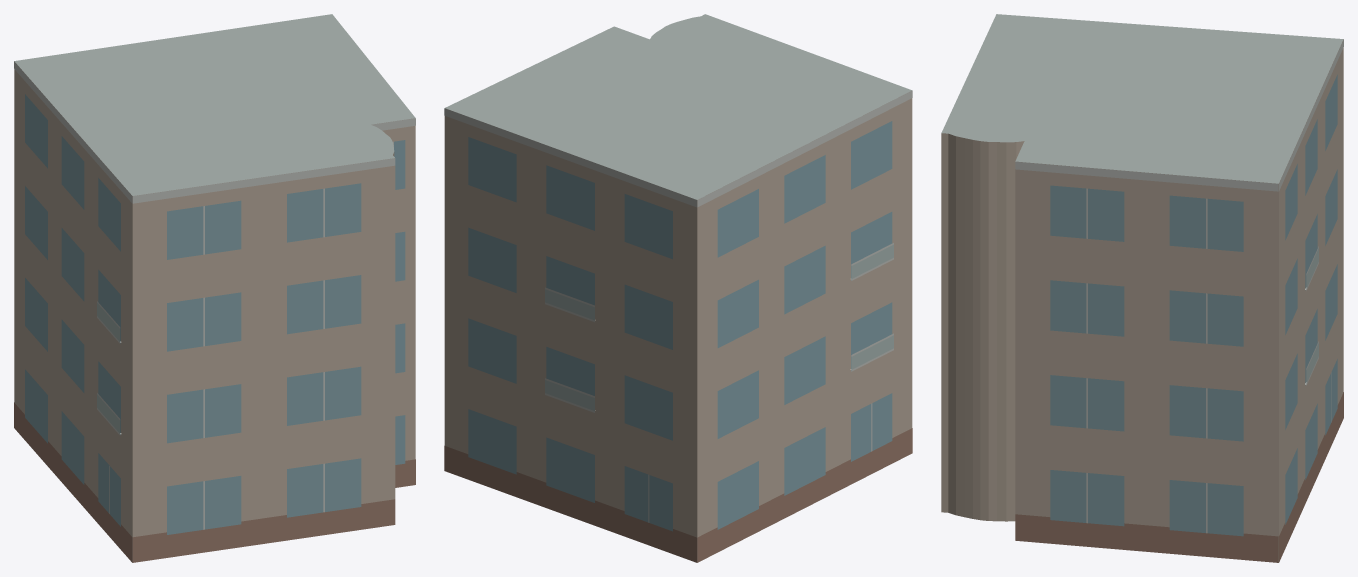
Rendered from survey-upis-32713661.glb.
3 renders of one model, left to right at view 1: azimuth 30°, elevation 25°; view 2: azimuth 150°, elevation 25°; view 3: azimuth 270°, elevation 25°, orthographic. The views are drawn at different scales.
Visible parts, largest first — view 1: survey-upis-32713661.tmp; view 2: survey-upis-32713661.tmp; view 3: survey-upis-32713661.tmp.
Boxes of the visible parts, x1,y1,x2,y2 form: survey-upis-32713661.tmp: (14, 14, 415, 562); survey-upis-32713661.tmp: (444, 14, 912, 562); survey-upis-32713661.tmp: (941, 14, 1343, 562).
Size of the model in its own units: 11.24 by 11.7 by 11.26.
